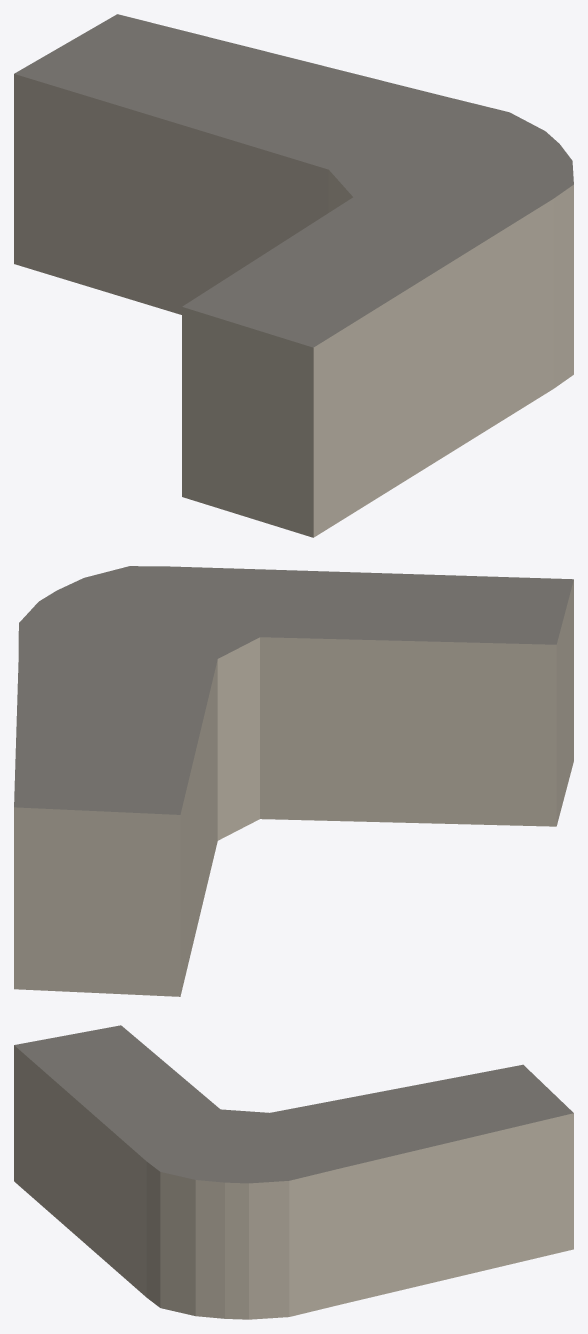
3 renders of one model, top to bottom at view 1: azimuth 30°, elevation 25°; view 2: azimuth 150°, elevation 25°; view 3: azimuth 270°, elevation 25°, orthographic. The views are drawn at different scales.
Parts seen in each view (by area): view 1: HP-w282881404; view 2: HP-w282881404; view 3: HP-w282881404.
Part boxes in pixels (x1,y1,x2,y2): HP-w282881404: (14,14,573,537); HP-w282881404: (14,566,573,996); HP-w282881404: (14,1025,573,1319).
Size of the model in its own units: 44.81 by 18 by 67.05.
